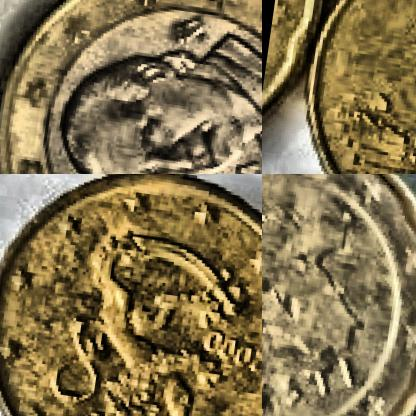coin: (0, 174, 261, 415), (0, 0, 261, 173), (262, 174, 415, 415), (289, 0, 415, 173)
